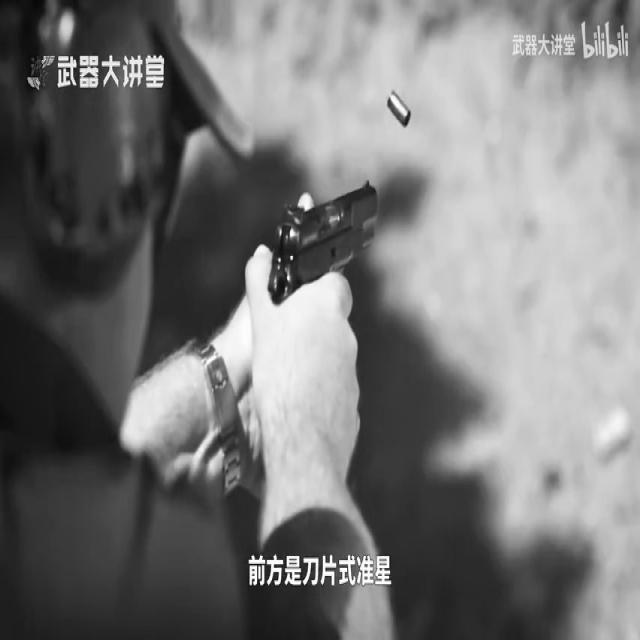Hand-Gun: (265, 172, 387, 306)
